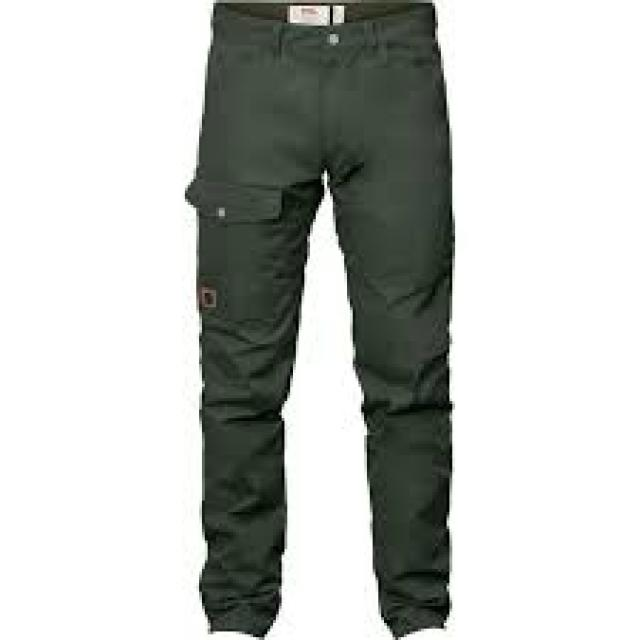long-pants: (185, 1, 454, 638)
